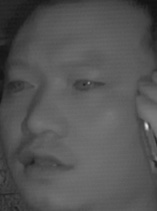eye: (72, 74, 102, 94), (9, 76, 37, 96)
mouth: (18, 144, 77, 181)
